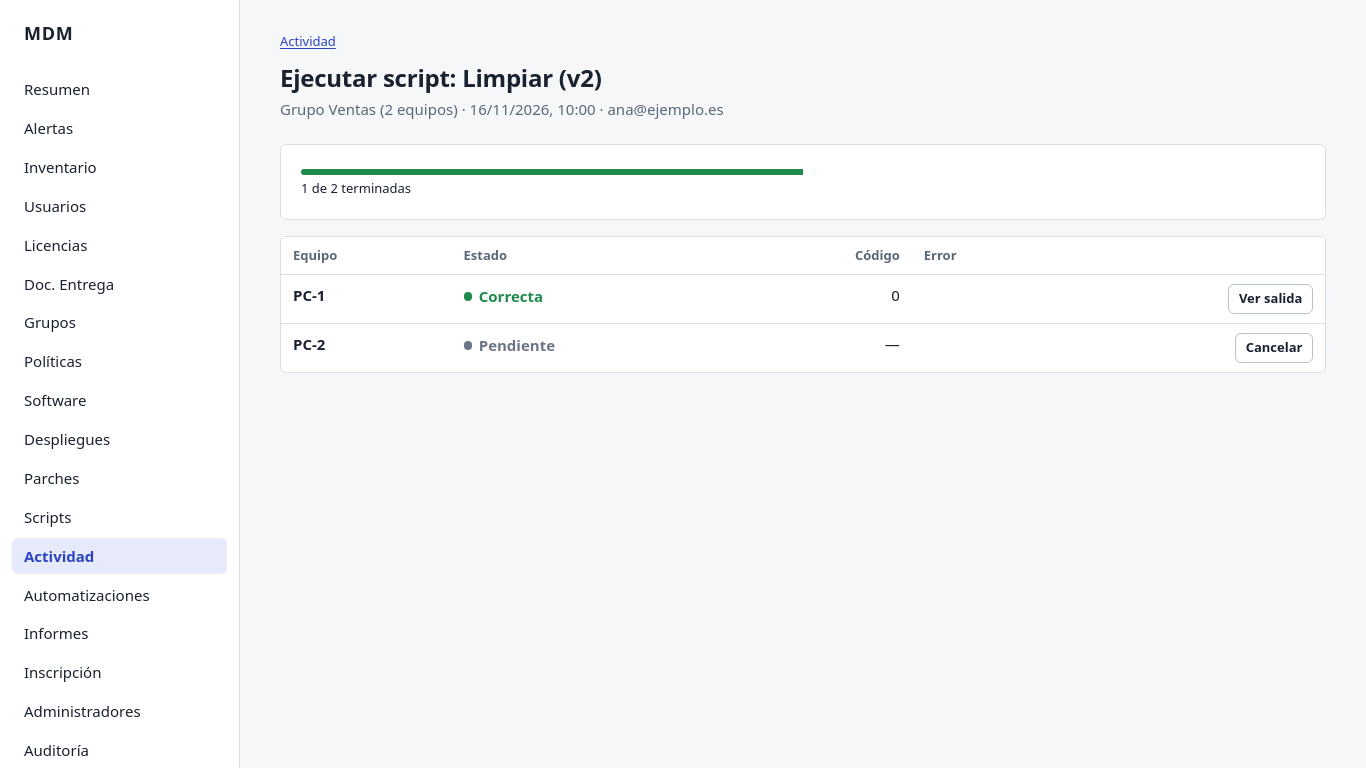
Test: Actividad › el detalle del lote muestra cada equipo y su salida
Click the button "Ver salida" at (1271,299), box [1228,284,1313,314]
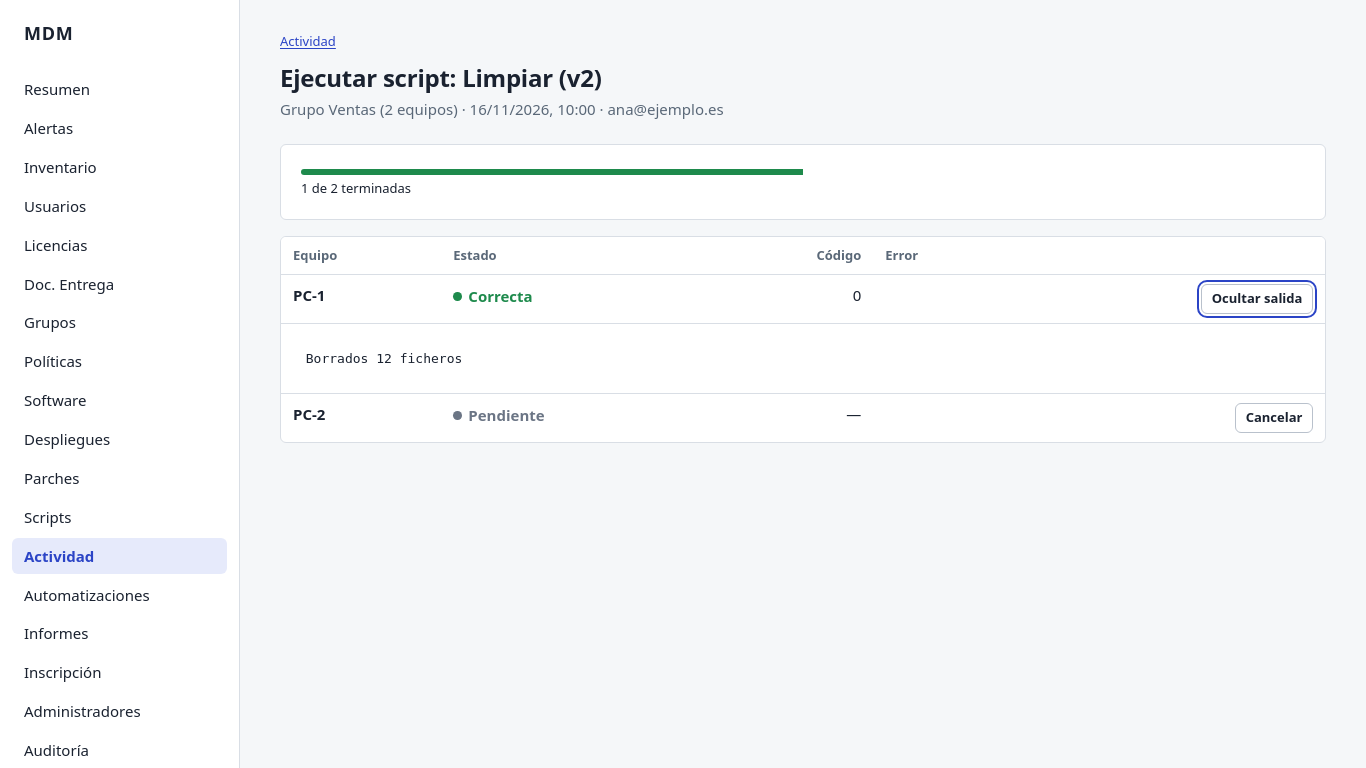
Result: the text "Borrados 12 ficheros" is shown at [306,351,462,366]
